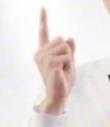up: (30, 4, 78, 96)
